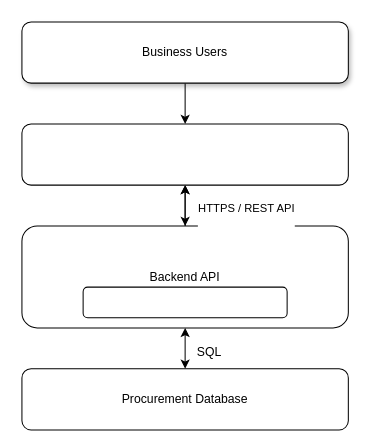
This 372x448 diagram has some shape labels left out. Each missing label, with the centre of its shape:
"Approval Workflow Engine" goes at point 184,302.
"Procurement Web Application" goes at point 184,154.
